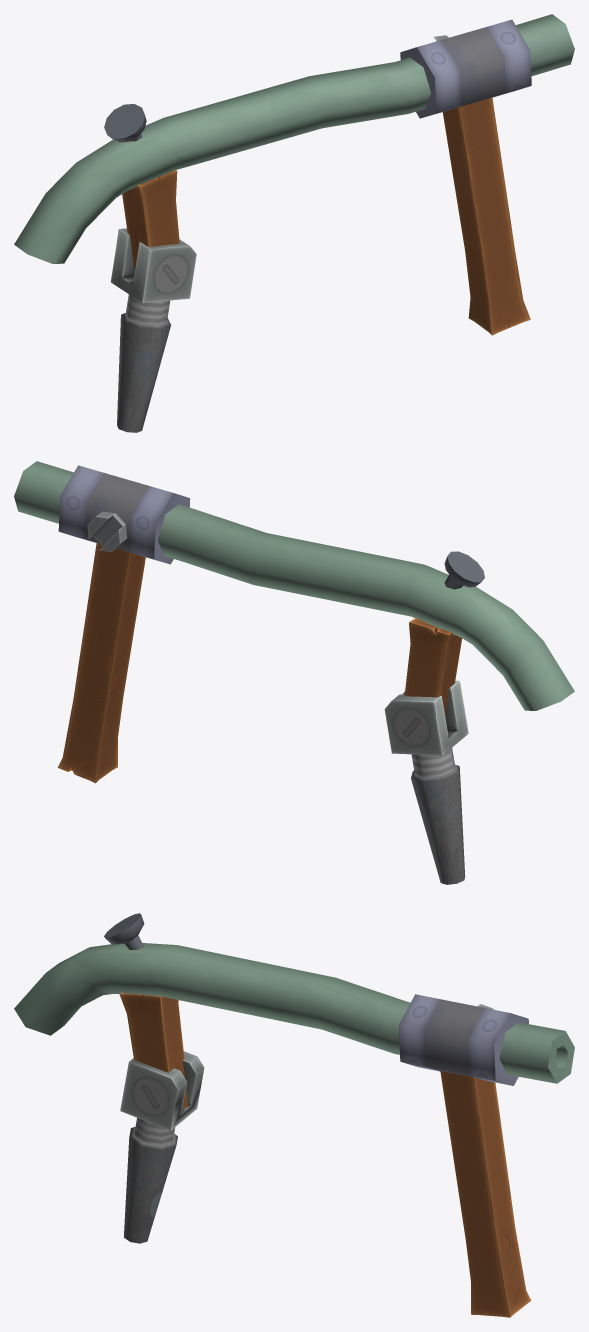
File: hvs_hideout_fence04.fbx
The picture shows the model from 3 angles, top to bottom: view 1: azimuth 30°, elevation 25°; view 2: azimuth 150°, elevation 25°; view 3: azimuth 330°, elevation 25°; orthographic projection.
Visible parts, largest first — view 1: hvs_hideout_fence04; view 2: hvs_hideout_fence04; view 3: hvs_hideout_fence04.
Part boxes in pixels (<box>): hvs_hideout_fence04: <box>14,14,574,432</box>; hvs_hideout_fence04: <box>14,461,574,884</box>; hvs_hideout_fence04: <box>14,913,574,1317</box>.
Size of the model in its own units: 9.65 by 5.51 by 1.28.
Materials: 1 (1 with a texture image).
